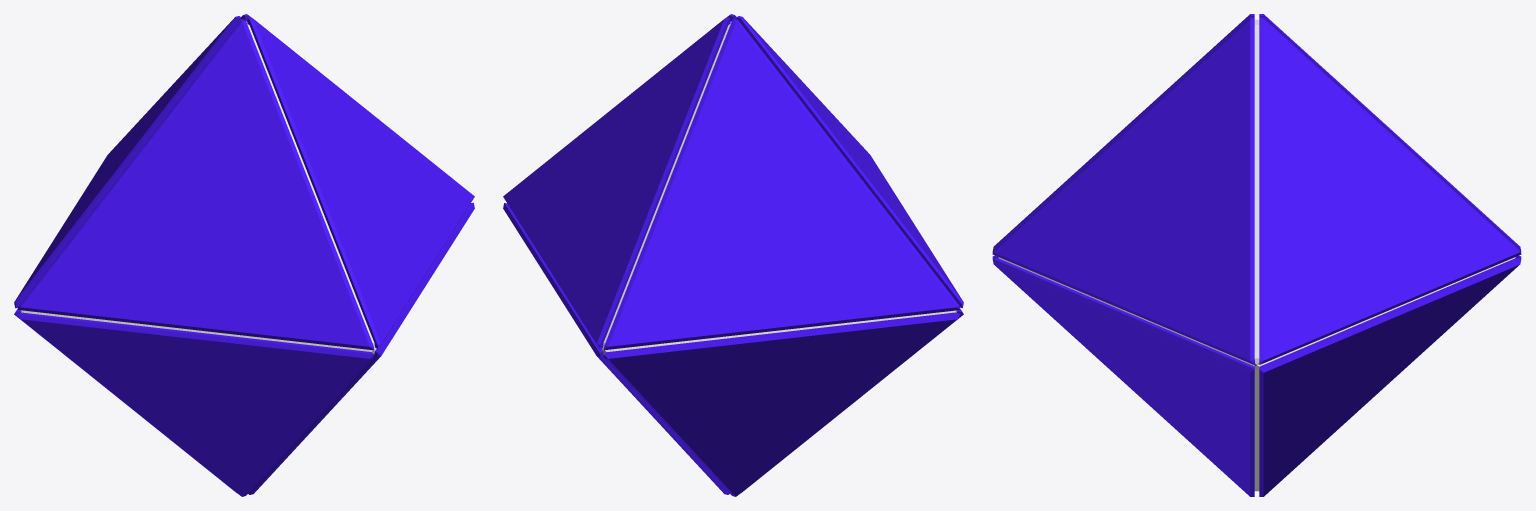
Rendered from MicroBeam.fbx.
The picture shows the model from 3 angles, left to right: view 1: azimuth 30°, elevation 25°; view 2: azimuth 150°, elevation 25°; view 3: azimuth 270°, elevation 25°; orthographic projection.
Visible parts, largest first — view 1: BaseTop; view 2: BaseTop; view 3: BaseTop.
Boxes of the visible parts, bbox=[...] form: BaseTop: bbox=[14, 14, 474, 496]; BaseTop: bbox=[503, 14, 963, 496]; BaseTop: bbox=[992, 14, 1521, 496].
Bounding box in the file's own units: 19.12 × 19.12 × 19.03.
